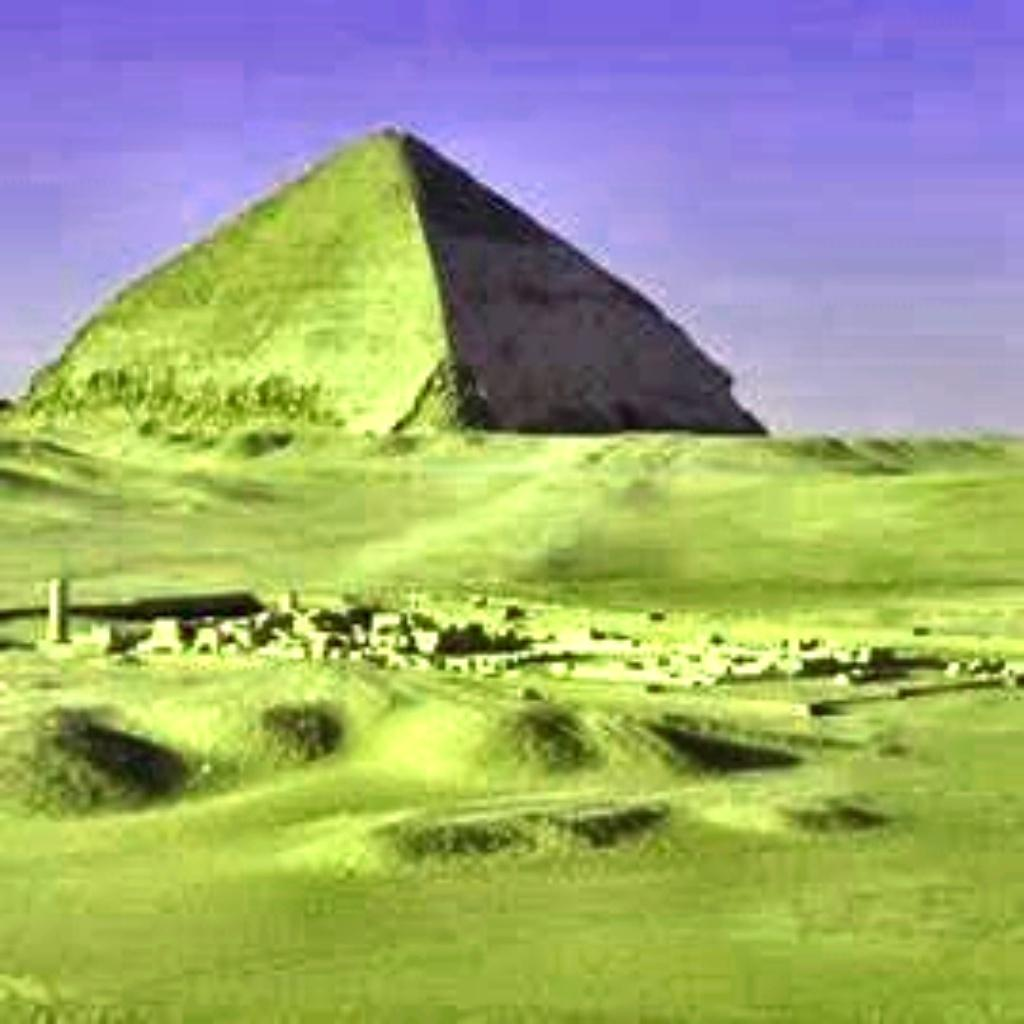Bent Pyramid of King Sneferu: (8, 114, 772, 446)
